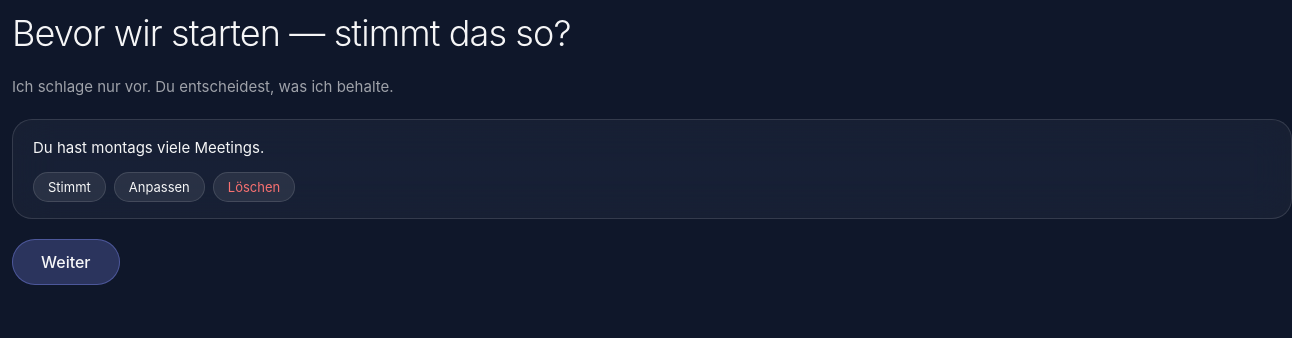
a failed resolve shows the error and keeps the card actionable
Click the button "Stimmt".
click(69, 187)  # box [33,172,106,202]
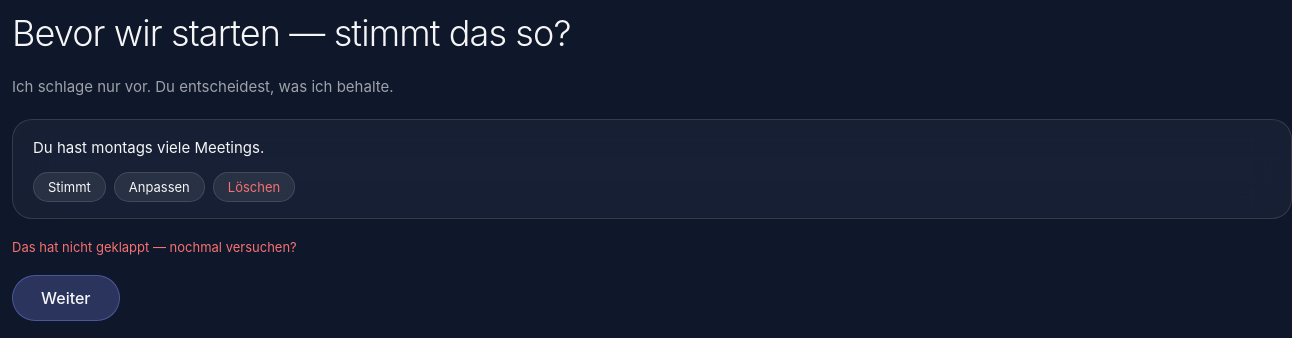
Check: the message reads "Das hat nicht geklappt — nochmal versuchen?", box [12,239,297,255]
